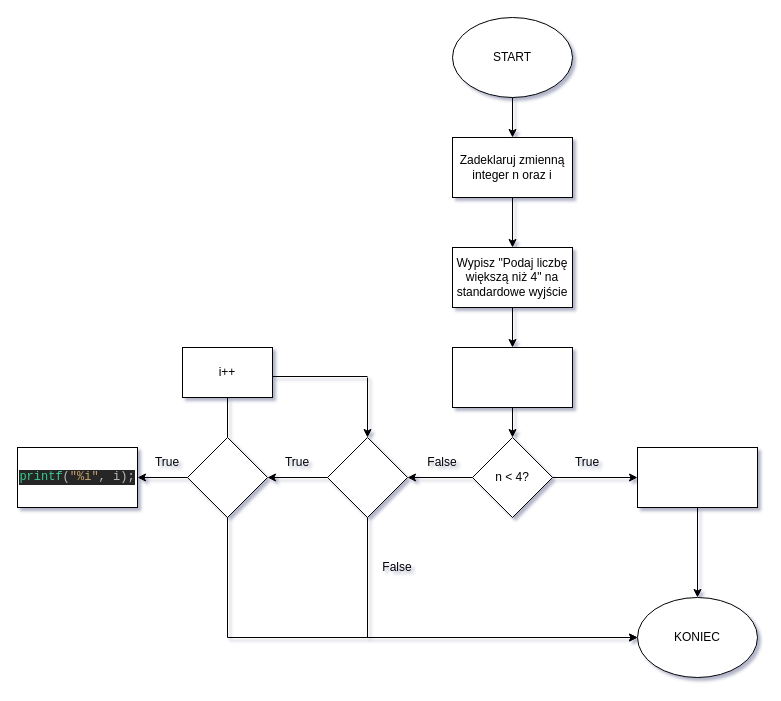
Some shapes in this 781 by 701 pixel diagram are drawn without their labels. The shapes that lost their labels are listed below. From the top down, each one's centre as x and y in pixels, then its label:
[512,377]: Wczytaj liczbę z standardowego wejścia do zmiennej n
[227,477]: i == n + 1?
[367,477]: i < n + 1?
[697,477]: Wypisz "Zła liczba!"
